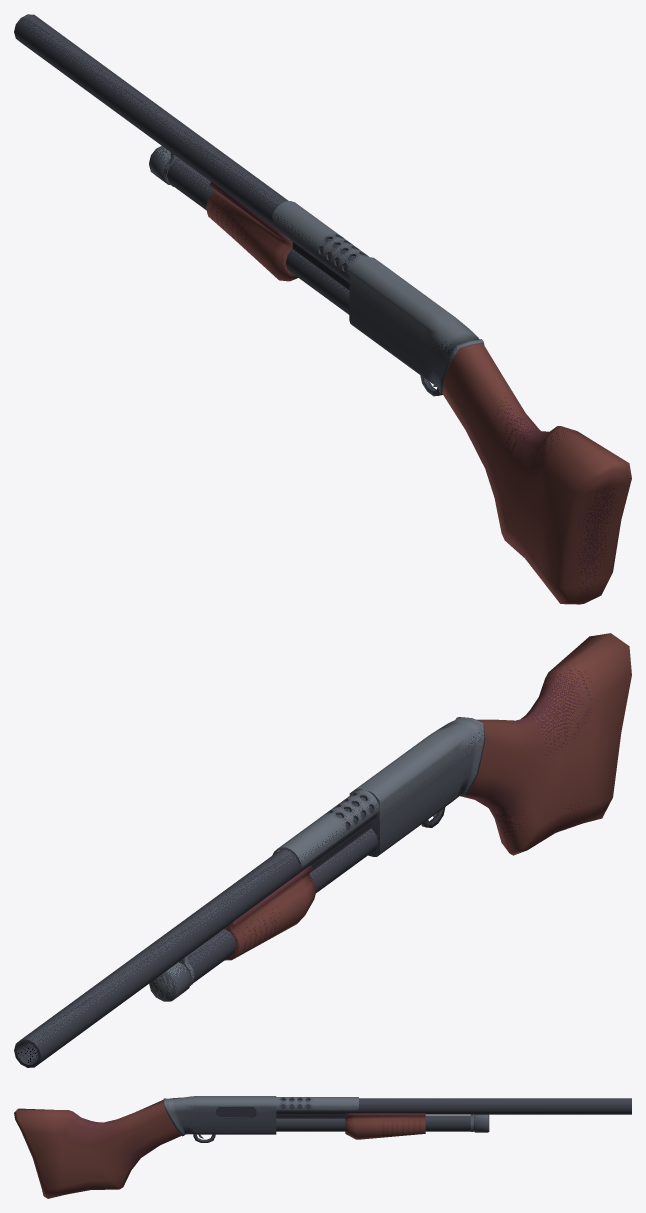
The model's file is shotgun.glb.
3 renders of one model, top to bottom at view 1: azimuth 30°, elevation 25°; view 2: azimuth 150°, elevation 25°; view 3: azimuth 270°, elevation 25°, orthographic. The views are drawn at different scales.
Parts seen in each view (by area): view 1: shotgun; view 2: shotgun; view 3: shotgun.
Part boxes in pixels (bbox=[...]): shotgun: bbox=[14, 14, 631, 604]; shotgun: bbox=[14, 633, 631, 1067]; shotgun: bbox=[14, 1096, 631, 1198].
Bounding box in the file's own units: 0.0495 × 0.1517 × 0.8555.
1 material, 1 textured.
